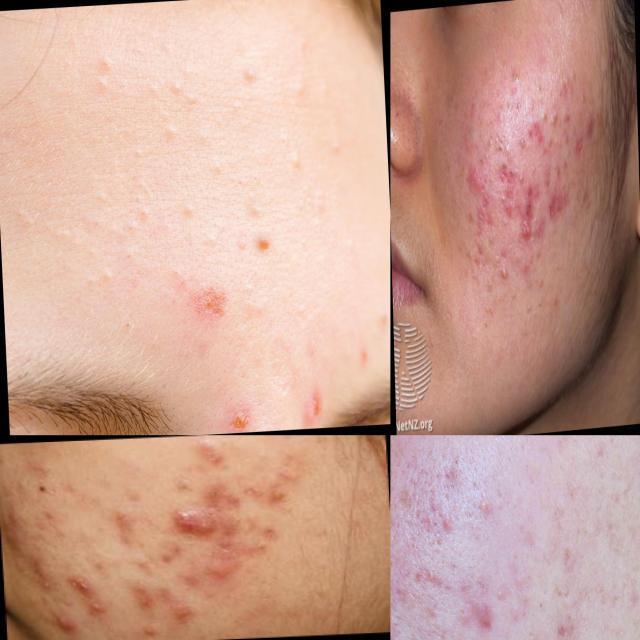Pimples: (496, 185, 540, 225), (170, 502, 214, 542), (67, 565, 96, 603), (51, 610, 80, 640), (166, 600, 197, 626), (580, 110, 600, 148), (544, 184, 562, 224), (128, 588, 158, 612), (528, 114, 548, 148), (464, 164, 484, 196), (560, 68, 582, 96), (518, 214, 536, 247), (498, 257, 514, 291), (510, 66, 526, 96), (210, 562, 236, 580), (546, 111, 560, 135), (390, 628, 416, 640)
